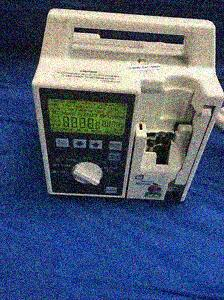plumxl1: (31, 7, 221, 206)
